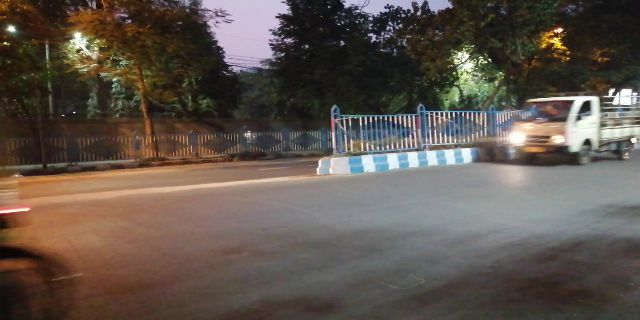Minitruck: (502, 89, 636, 164)
